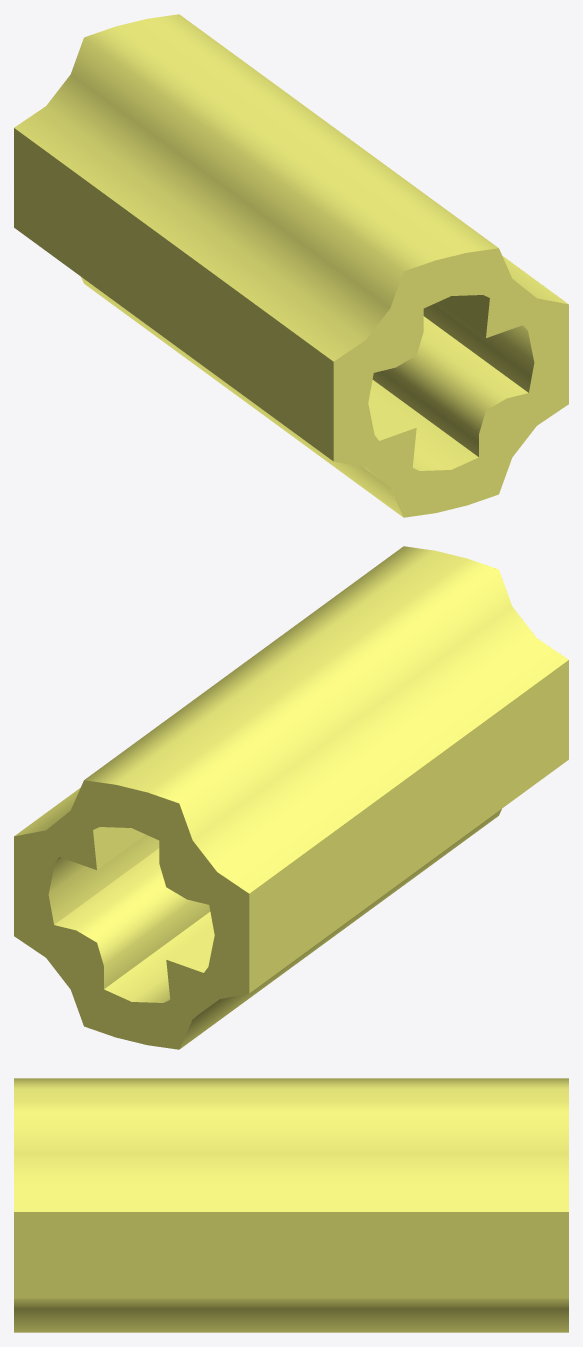
3 views of the same model, one above another, from view 1: azimuth 30°, elevation 25°; view 2: azimuth 150°, elevation 25°; view 3: azimuth 270°, elevation 25° (orthographic). The views are drawn at different scales.
Visible parts, largest first — view 1: 59443.dat; view 2: 59443.dat; view 3: 59443.dat.
Part boxes in pixels (x1=…): 59443.dat: x1=14, y1=14, x2=568, y2=517; 59443.dat: x1=14, y1=546, x2=568, y2=1049; 59443.dat: x1=14, y1=1078, x2=568, y2=1332.
Size of the model in its own units: 0.0068 by 0.00698 by 0.016.
